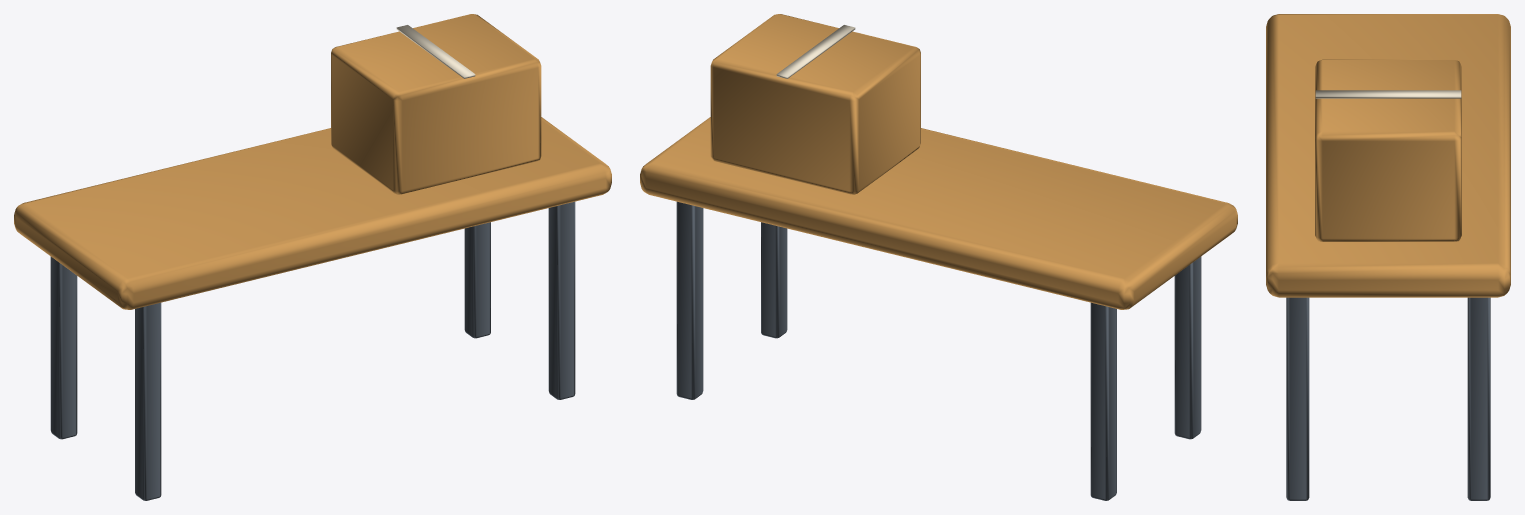
File: warehouse-packing-bench.glb
3 renders of one model, left to right at view 1: azimuth 30°, elevation 25°; view 2: azimuth 150°, elevation 25°; view 3: azimuth 270°, elevation 25°, orthographic. The views are drawn at different scales.
Visible parts, largest first — view 1: interior_4_woodLight.003, interior_4_metal.001, interior_4_ivory.002; view 2: interior_4_woodLight.003, interior_4_metal.001, interior_4_ivory.002; view 3: interior_4_woodLight.003, interior_4_metal.001, interior_4_ivory.002.
Boxes of the visible parts, x1,y1,x2,y2 form: interior_4_woodLight.003: [14, 14, 611, 309]; interior_4_metal.001: [50, 201, 575, 500]; interior_4_ivory.002: [396, 25, 475, 78]; interior_4_woodLight.003: [640, 14, 1237, 309]; interior_4_metal.001: [676, 201, 1201, 500]; interior_4_ivory.002: [776, 25, 855, 78]; interior_4_woodLight.003: [1266, 14, 1510, 297]; interior_4_metal.001: [1286, 297, 1490, 500]; interior_4_ivory.002: [1315, 90, 1461, 98].
Bounding box in the file's own units: 2 × 1.3 × 0.8.
